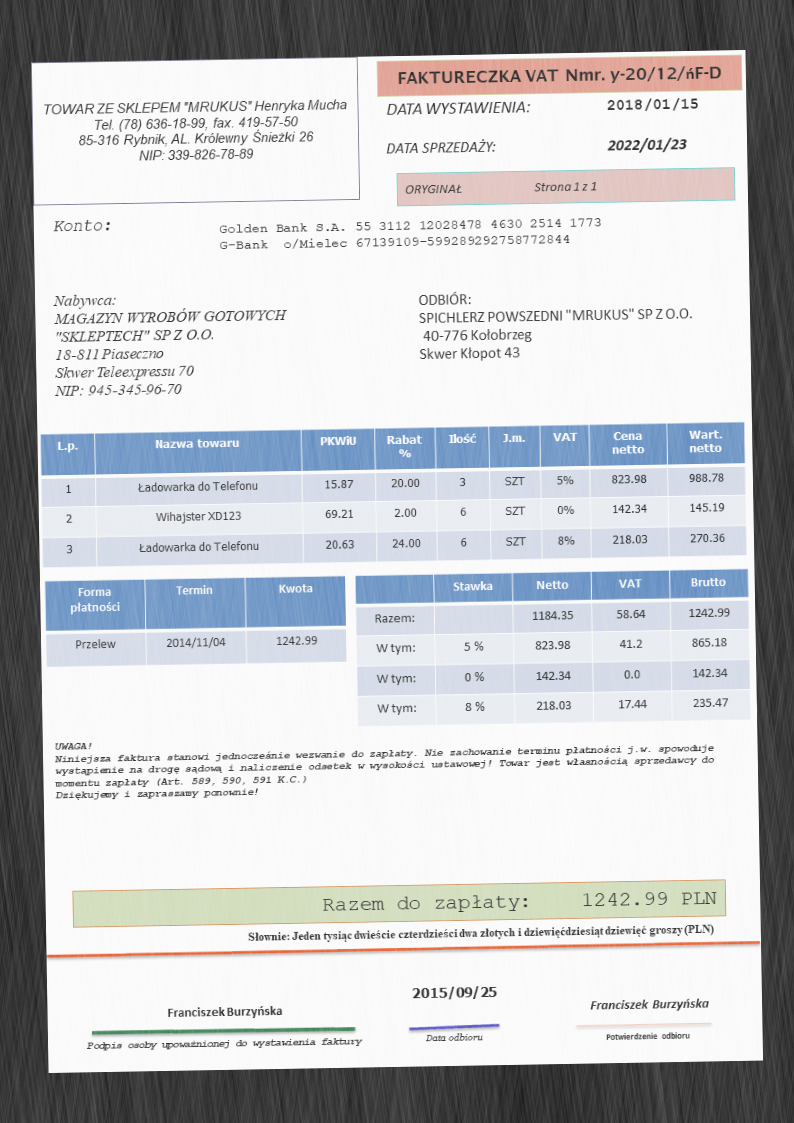Table: (39, 421, 747, 569), (354, 567, 753, 727), (44, 574, 347, 669)
TextBox: (52, 728, 717, 802), (51, 289, 290, 399), (41, 94, 350, 166), (417, 285, 693, 363), (218, 214, 604, 254), (320, 887, 717, 917), (247, 921, 715, 944), (394, 61, 722, 89), (85, 1034, 363, 1053), (402, 178, 599, 198), (384, 97, 532, 117), (383, 137, 498, 156), (164, 1003, 283, 1021), (587, 997, 710, 1014), (605, 96, 699, 115), (410, 983, 498, 1001), (605, 136, 690, 153), (603, 1029, 692, 1043), (51, 216, 111, 235), (423, 1030, 485, 1045)
